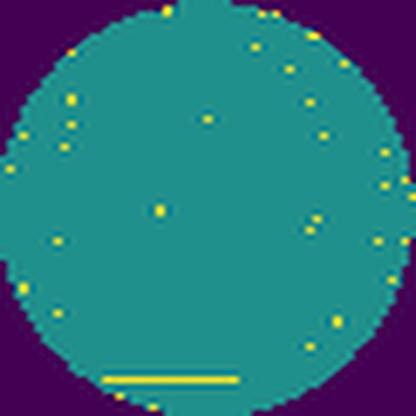Scratch: (94, 363, 248, 393)
